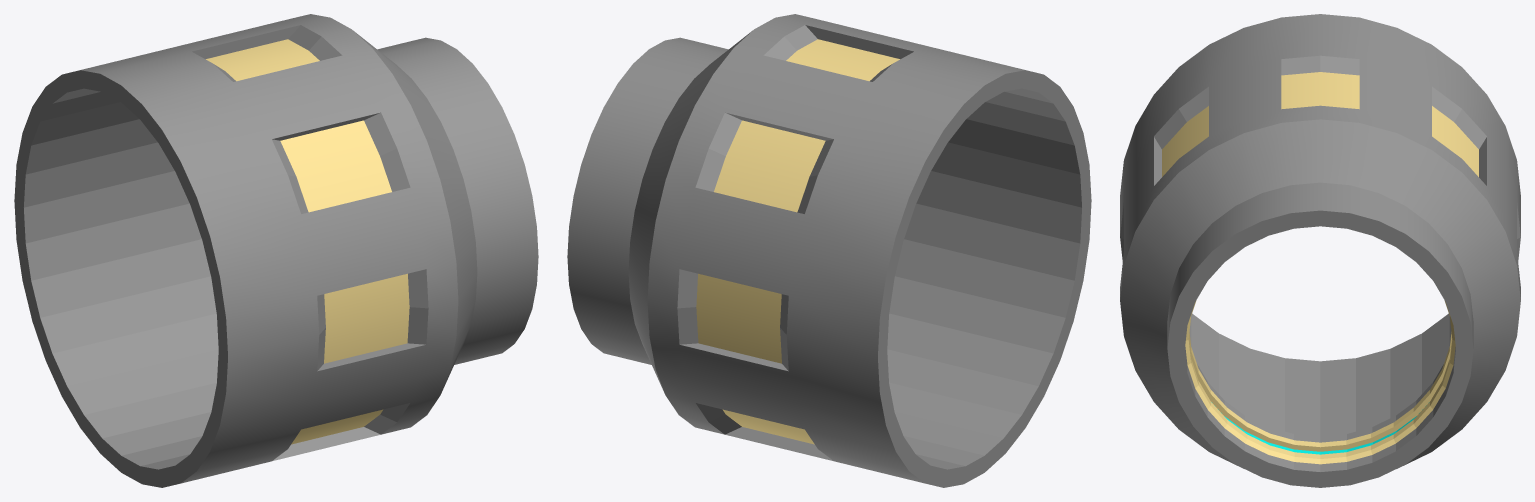
File: SM_ConnectorLock.FBX
The picture shows the model from 3 angles, left to right: view 1: azimuth 30°, elevation 25°; view 2: azimuth 150°, elevation 25°; view 3: azimuth 270°, elevation 25°; orthographic projection. The views are drawn at different scales.
Parts seen in each view (by area): view 1: Cylinder002; view 2: Cylinder002; view 3: Cylinder002.
Boxes of the visible parts, x1,y1,x2,y2 form: Cylinder002: (14,14,538,487); Cylinder002: (567,14,1091,487); Cylinder002: (1120,14,1520,487).
Size of the model in its own units: 1870 by 2062 by 2062.
